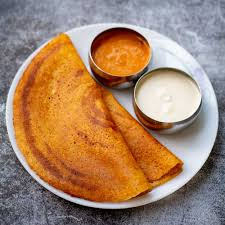dosa: (10, 32, 178, 202)
